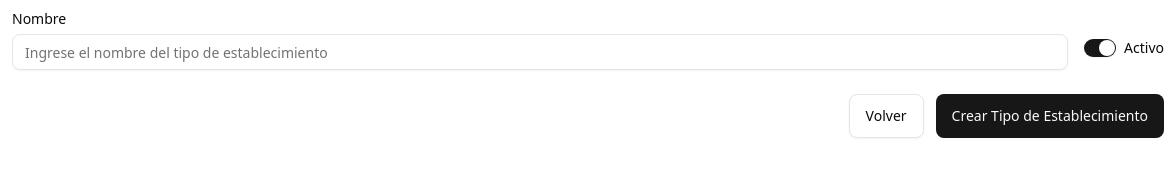
it: EnvironmentTypeForm › conserva la validación requerida
Click the button "Crear Tipo de Establecimiento": x=1050, y=116 [936, 94, 1164, 138]
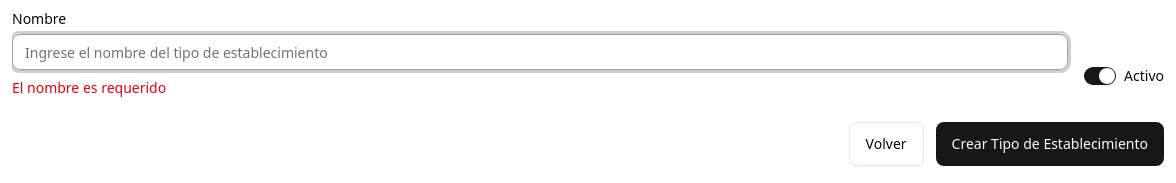
Expected: the text "El nombre es requerido" is shown, [12, 78, 166, 97]
